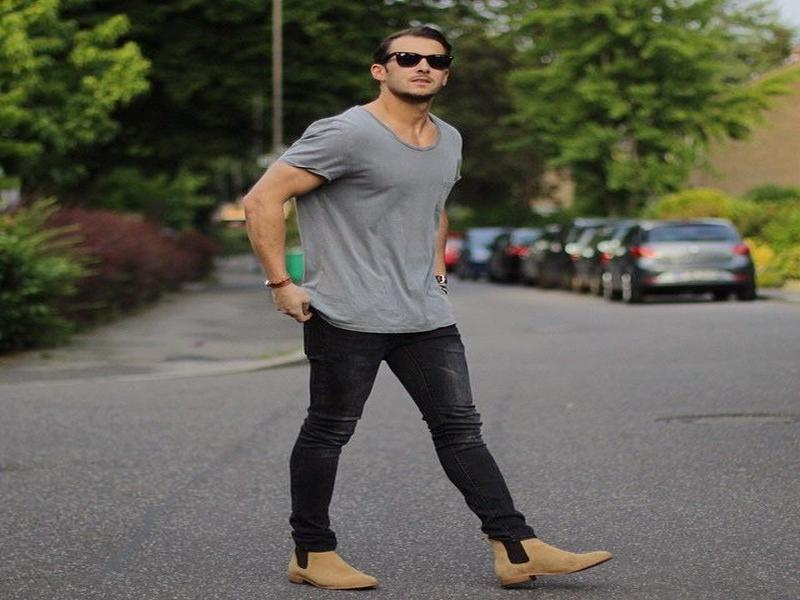shoes_men_chelsea_chelseaboots_suede_none_none_beige_none: (477, 533, 634, 588), (278, 536, 403, 594)
